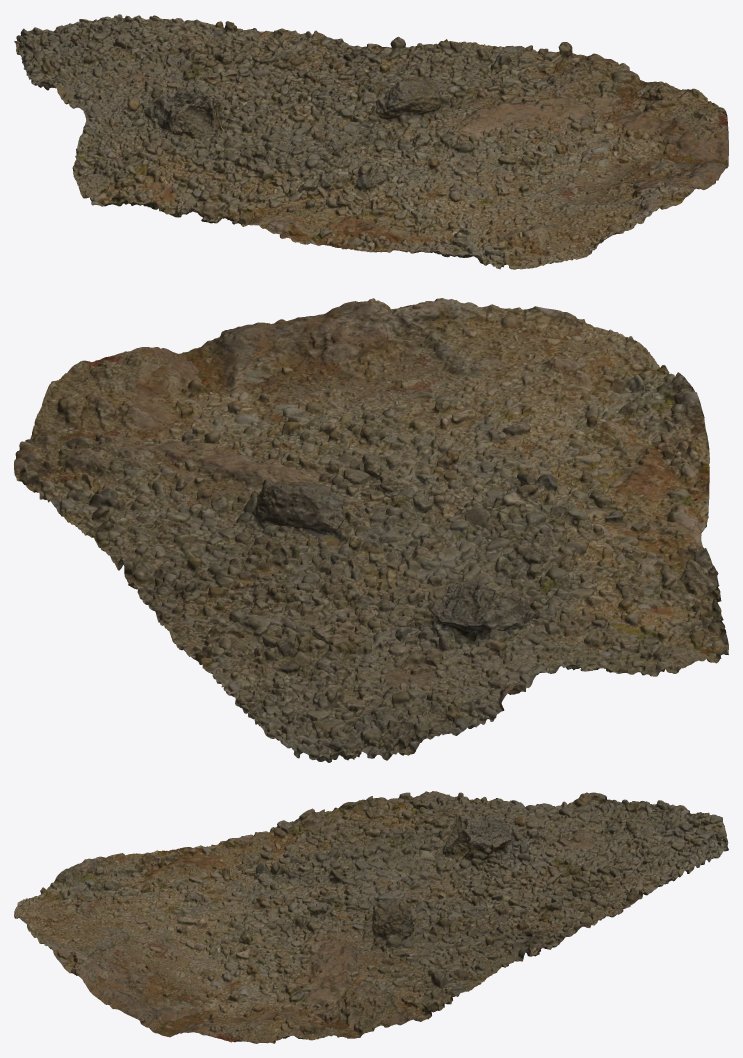
File: coast_land_rocks_04.glb
The picture shows the model from 3 angles, top to bottom: view 1: azimuth 30°, elevation 25°; view 2: azimuth 150°, elevation 25°; view 3: azimuth 270°, elevation 25°; orthographic projection. The views are drawn at different scales.
Parts seen in each view (by area): view 1: coast_land_rocks_04_LOD0; view 2: coast_land_rocks_04_LOD0; view 3: coast_land_rocks_04_LOD0.
Part boxes in pixels (box(x1,y1,x2,y2)): coast_land_rocks_04_LOD0: box(14, 14, 728, 269); coast_land_rocks_04_LOD0: box(14, 298, 728, 762); coast_land_rocks_04_LOD0: box(14, 791, 728, 1043).
Bounding box in the file's own units: 9.96 × 0.8458 × 11.5.
Materials: 1 (1 with a texture image).
